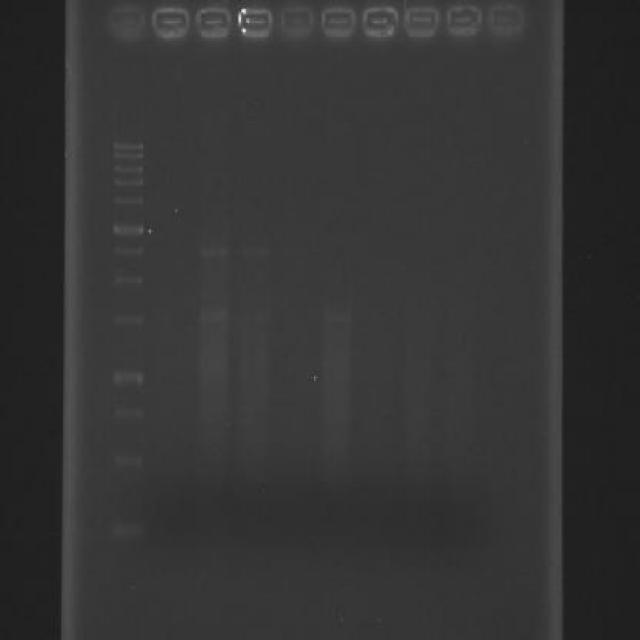B: (238, 243, 272, 260), (198, 242, 230, 260)
L: (91, 0, 537, 55)
M: (95, 130, 158, 568)
P: (108, 518, 144, 548), (110, 310, 148, 336), (110, 366, 144, 391), (111, 402, 144, 426), (110, 270, 144, 292), (111, 450, 144, 472), (112, 221, 146, 241), (111, 190, 144, 210), (111, 242, 144, 261), (112, 174, 146, 188), (112, 136, 146, 150), (112, 160, 146, 173), (112, 149, 146, 162)
Pc: (149, 1, 191, 42), (105, 2, 146, 42), (360, 2, 400, 41), (194, 1, 232, 42), (444, 2, 484, 40), (316, 4, 358, 40), (485, 4, 527, 40), (237, 3, 274, 43), (402, 4, 442, 40), (278, 3, 314, 40)
